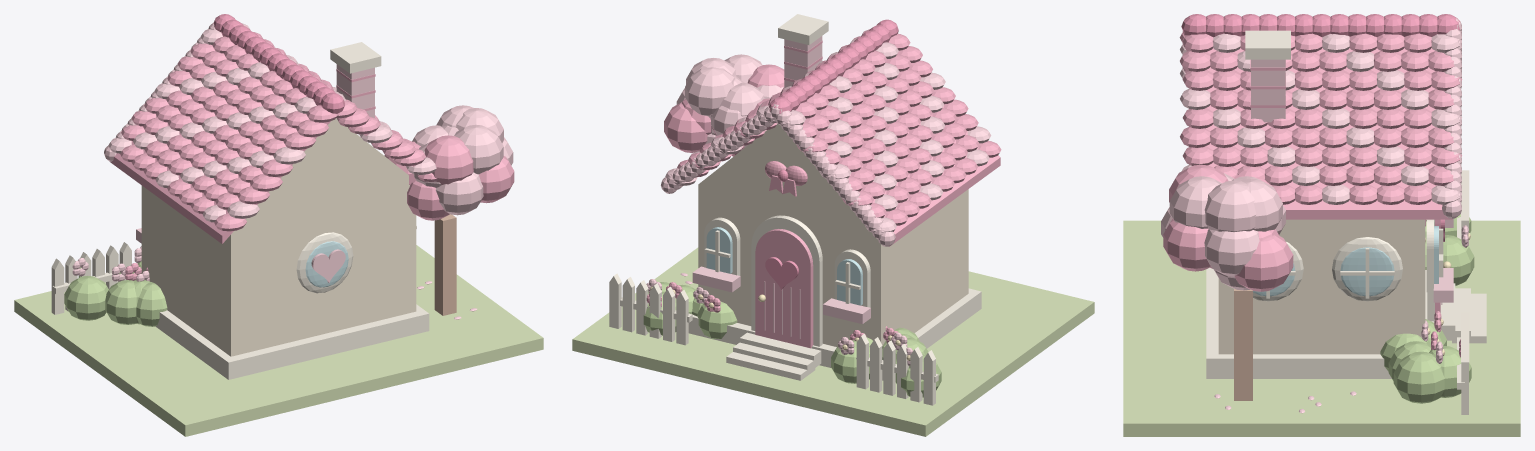
The model's file is power_house.glb.
The picture shows the model from 3 angles, left to right: view 1: azimuth 30°, elevation 25°; view 2: azimuth 150°, elevation 25°; view 3: azimuth 270°, elevation 25°; orthographic projection. The views are drawn at different scales.
Parts seen in each view (by area): view 1: Static house 0|NORMAL,POSITION, Static house 9|NORMAL,POSITION, Static house 1|NORMAL,POSITION, Static house 3|NORMAL,POSITION, Static house 4|NORMAL,POSITION, Static house 7|NORMAL,POSITION, Static house 2|NORMAL,POSITION, Static house 6|NORMAL,POSITION, Static house 5|NORMAL,POSITION; view 2: Static house 1|NORMAL,POSITION, Static house 9|NORMAL,POSITION, Static house 0|NORMAL,POSITION, Static house 3|NORMAL,POSITION, Static house 4|NORMAL,POSITION, Static house 2|NORMAL,POSITION, Static house 7|NORMAL,POSITION, Static house 5|NORMAL,POSITION; view 3: Static house 9|NORMAL,POSITION, Static house 1|NORMAL,POSITION, Static house 3|NORMAL,POSITION, Static house 0|NORMAL,POSITION, Static house 4|NORMAL,POSITION, Static house 7|NORMAL,POSITION, Static house 2|NORMAL,POSITION, Static house 5|NORMAL,POSITION, Static house 6|NORMAL,POSITION.
Boxes of the visible parts, left/top/right/bottom form: Static house 0|NORMAL,POSITION: left=141, top=118, right=416, bottom=356; Static house 9|NORMAL,POSITION: left=14, top=245, right=543, bottom=436; Static house 1|NORMAL,POSITION: left=110, top=32, right=514, bottom=280; Static house 3|NORMAL,POSITION: left=72, top=22, right=513, bottom=319; Static house 4|NORMAL,POSITION: left=51, top=42, right=429, bottom=379; Static house 7|NORMAL,POSITION: left=64, top=261, right=167, bottom=326; Static house 2|NORMAL,POSITION: left=213, top=14, right=344, bottom=113; Static house 6|NORMAL,POSITION: left=434, top=214, right=456, bottom=315; Static house 5|NORMAL,POSITION: left=305, top=241, right=348, bottom=287; Static house 1|NORMAL,POSITION: left=646, top=29, right=1001, bottom=348; Static house 9|NORMAL,POSITION: left=572, top=247, right=1094, bottom=436; Static house 0|NORMAL,POSITION: left=698, top=124, right=968, bottom=346; Static house 3|NORMAL,POSITION: left=646, top=36, right=991, bottom=365; Static house 4|NORMAL,POSITION: left=609, top=14, right=981, bottom=405; Static house 2|NORMAL,POSITION: left=765, top=19, right=898, bottom=290; Static house 7|NORMAL,POSITION: left=643, top=282, right=941, bottom=397; Static house 5|NORMAL,POSITION: left=706, top=227, right=862, bottom=305; Static house 9|NORMAL,POSITION: left=1123, top=220, right=1520, bottom=436; Static house 1|NORMAL,POSITION: left=1163, top=31, right=1461, bottom=357; Static house 3|NORMAL,POSITION: left=1161, top=18, right=1468, bottom=413; Static house 0|NORMAL,POSITION: left=1218, top=219, right=1425, bottom=354; Static house 4|NORMAL,POSITION: left=1206, top=30, right=1486, bottom=414; Static house 7|NORMAL,POSITION: left=1380, top=214, right=1474, bottom=403; Static house 2|NORMAL,POSITION: left=1181, top=14, right=1459, bottom=241; Static house 5|NORMAL,POSITION: left=1253, top=226, right=1438, bottom=296; Static house 6|NORMAL,POSITION: left=1234, top=289, right=1252, bottom=400.
Bounding box in the file's own units: 6.05 × 4.35 × 4.8.
